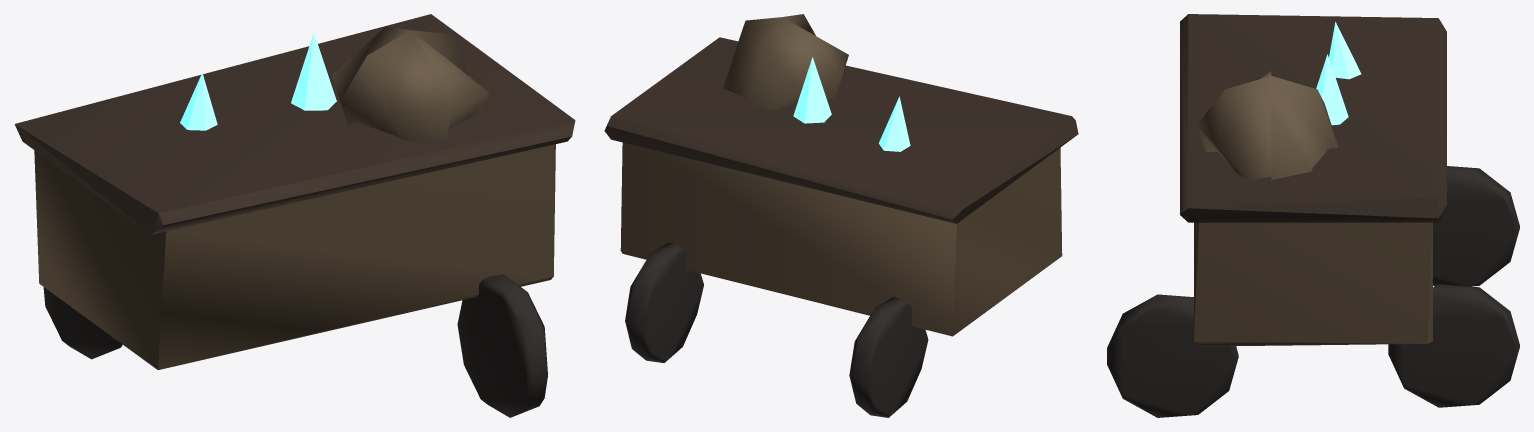
The model's file is ore_cart_lod1.glb.
The picture shows the model from 3 angles, left to right: view 1: azimuth 30°, elevation 25°; view 2: azimuth 150°, elevation 25°; view 3: azimuth 270°, elevation 25°; orthographic projection. The views are drawn at different scales.
Visible parts, largest first — view 1: prop.ore_cart; view 2: prop.ore_cart; view 3: prop.ore_cart.
Part boxes in pixels (left/top/right/bottom): prop.ore_cart: left=14, top=14, right=575, bottom=417; prop.ore_cart: left=604, top=14, right=1078, bottom=417; prop.ore_cart: left=1107, top=14, right=1519, bottom=417.
Bounding box in the file's own units: 1.14 × 0.9 × 1.05.
